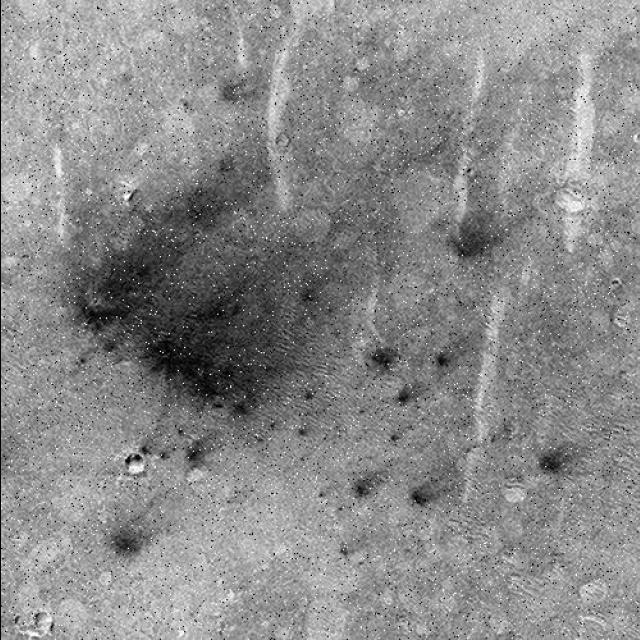crater: (118, 452, 152, 480), (60, 0, 88, 12), (0, 290, 14, 310)
